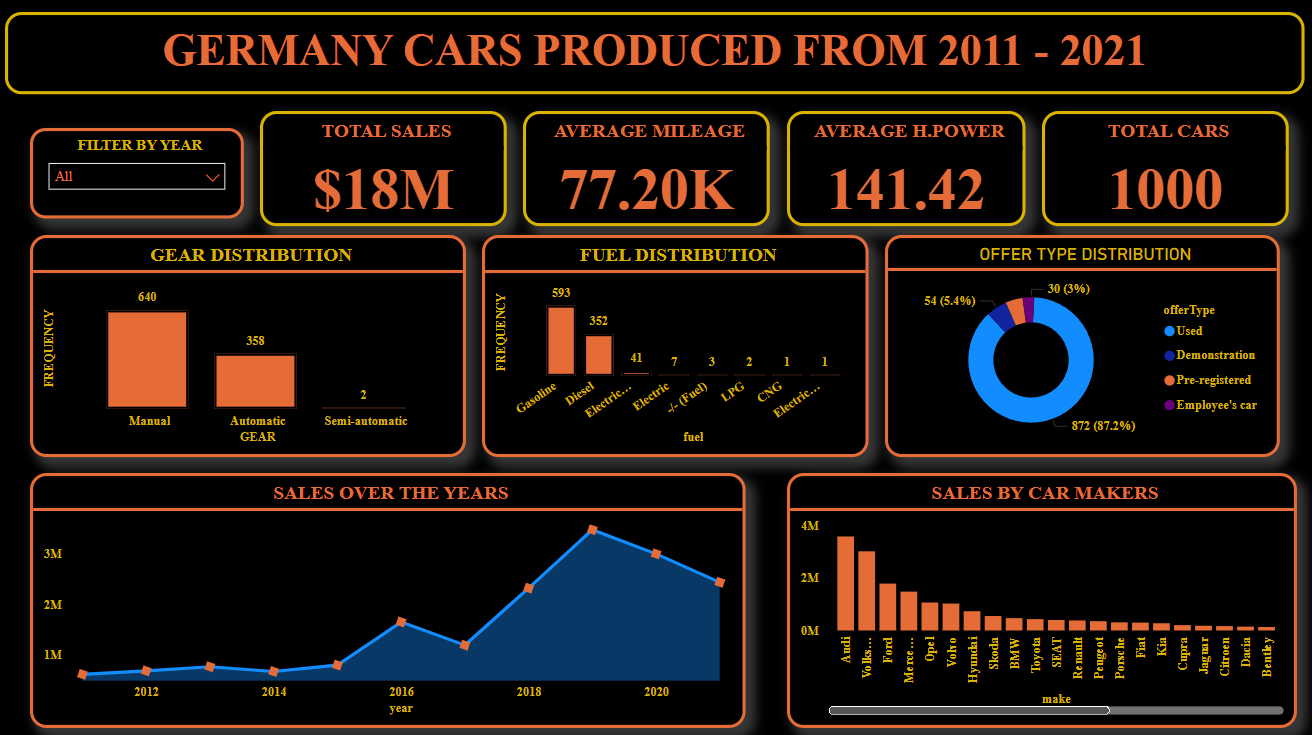

What the dashboard file says about the page in this screenshot:
{"tool":"powerbi","page":{"name":"Page 1","canvas":[1280,720],"ordinal":0},"visuals":[{"type":"textbox","box":[8,16,1264,80],"z":0},{"type":"card","title":"TOTAL SALES ","fields":{"Values":["Sum(german cars 2011-2021.price)"]},"box":[256,112,240,112],"z":1000},{"type":"card","title":"AVERAGE MILEAGE","fields":{"Values":["german cars 2011-2021.AVG_MILEAGE"]},"box":[512,112,240,112],"z":2000},{"type":"card","title":"AVERAGE H.POWER","fields":{"Values":["german cars 2011-2021.AVG_HP"]},"box":[768,112,232,112],"z":3000},{"type":"card","title":"TOTAL CARS","fields":{"Values":["german cars 2011-2021.CARS_COUNT"]},"box":[1016,112,240,112],"z":4000},{"type":"clusteredColumnChart","title":"GEAR DISTRIBUTION","fields":{"Category":["german cars 2011-2021.gear"],"Y":["CountNonNull(german cars 2011-2021.gear)"]},"box":[32,232,424,216],"z":5000},{"type":"clusteredColumnChart","title":"FUEL DISTRIBUTION","fields":{"Y":["CountNonNull(german cars 2011-2021.gear)"],"Category":["german cars 2011-2021.fuel"]},"box":[472,232,376,216],"z":6000},{"type":"donutChart","title":"OFFER TYPE DISTRIBUTION","fields":{"Category":["german cars 2011-2021.offerType"],"Y":["CountNonNull(german cars 2011-2021.offerType)"]},"box":[864,232,384,216],"z":7000},{"type":"areaChart","title":"SALES OVER THE YEARS","fields":{"Category":["german cars 2011-2021.year"],"Y":["Sum(german cars 2011-2021.price)"]},"box":[32,464,696,248],"z":8000},{"type":"clusteredColumnChart","title":"SALES BY CAR MAKERS","fields":{"Category":["german cars 2011-2021.make"],"Y":["Sum(german cars 2011-2021.price)"]},"box":[768,464,496,248],"z":9000},{"type":"slicer","title":"FILTER BY YEAR","fields":{"Values":["german cars 2011-2021.year"]},"box":[32,128,208,88],"z":10000}]}

Visuals, with their boxes in screenshot pixels (x1, y1, x2, y2), scaled from the page's 1280x720 canvas onto the 1312x735 screenshot:
textbox: 8/16/1304/98
"TOTAL SALES " card: 262/114/508/229
"AVERAGE MILEAGE" card: 525/114/771/229
"AVERAGE H.POWER" card: 787/114/1025/229
"TOTAL CARS" card: 1041/114/1287/229
"GEAR DISTRIBUTION" clusteredColumnChart: 33/237/467/457
"FUEL DISTRIBUTION" clusteredColumnChart: 484/237/869/457
"OFFER TYPE DISTRIBUTION" donutChart: 886/237/1279/457
"SALES OVER THE YEARS" areaChart: 33/474/746/727
"SALES BY CAR MAKERS" clusteredColumnChart: 787/474/1296/727
"FILTER BY YEAR" slicer: 33/131/246/220
